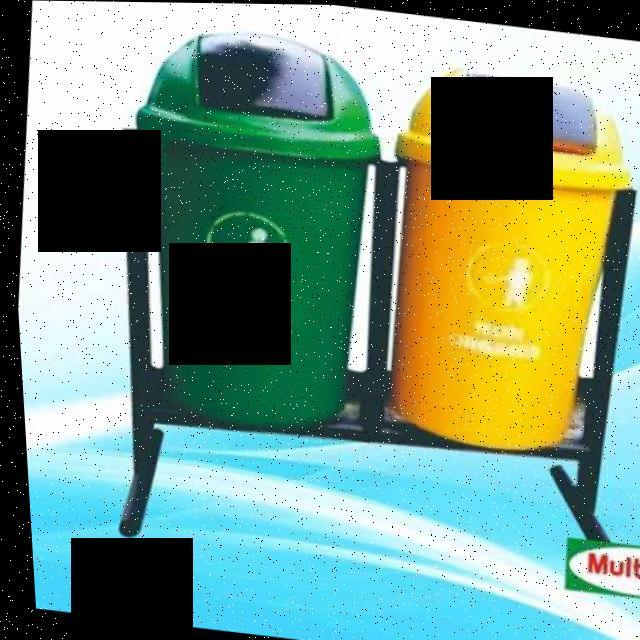bin: (73, 2, 431, 455), (356, 36, 640, 475)
